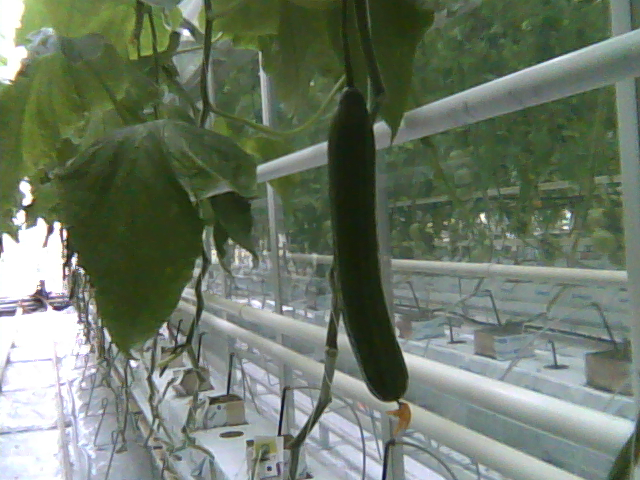concombre: (326, 79, 412, 436)
